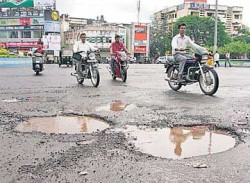pothole: (121, 113, 242, 163), (9, 109, 108, 136)
